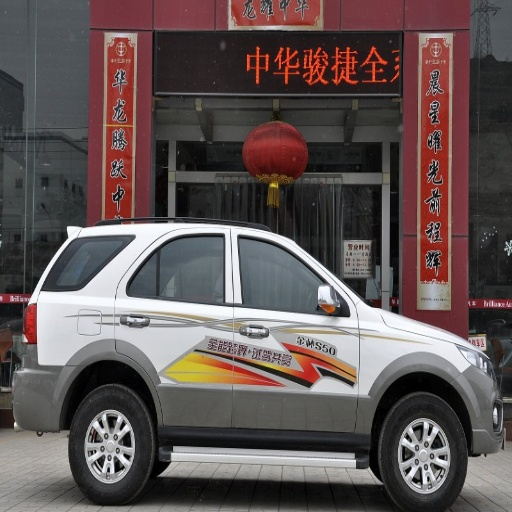back_right_door: (117, 228, 231, 433)
front_right_door: (233, 230, 355, 431)
